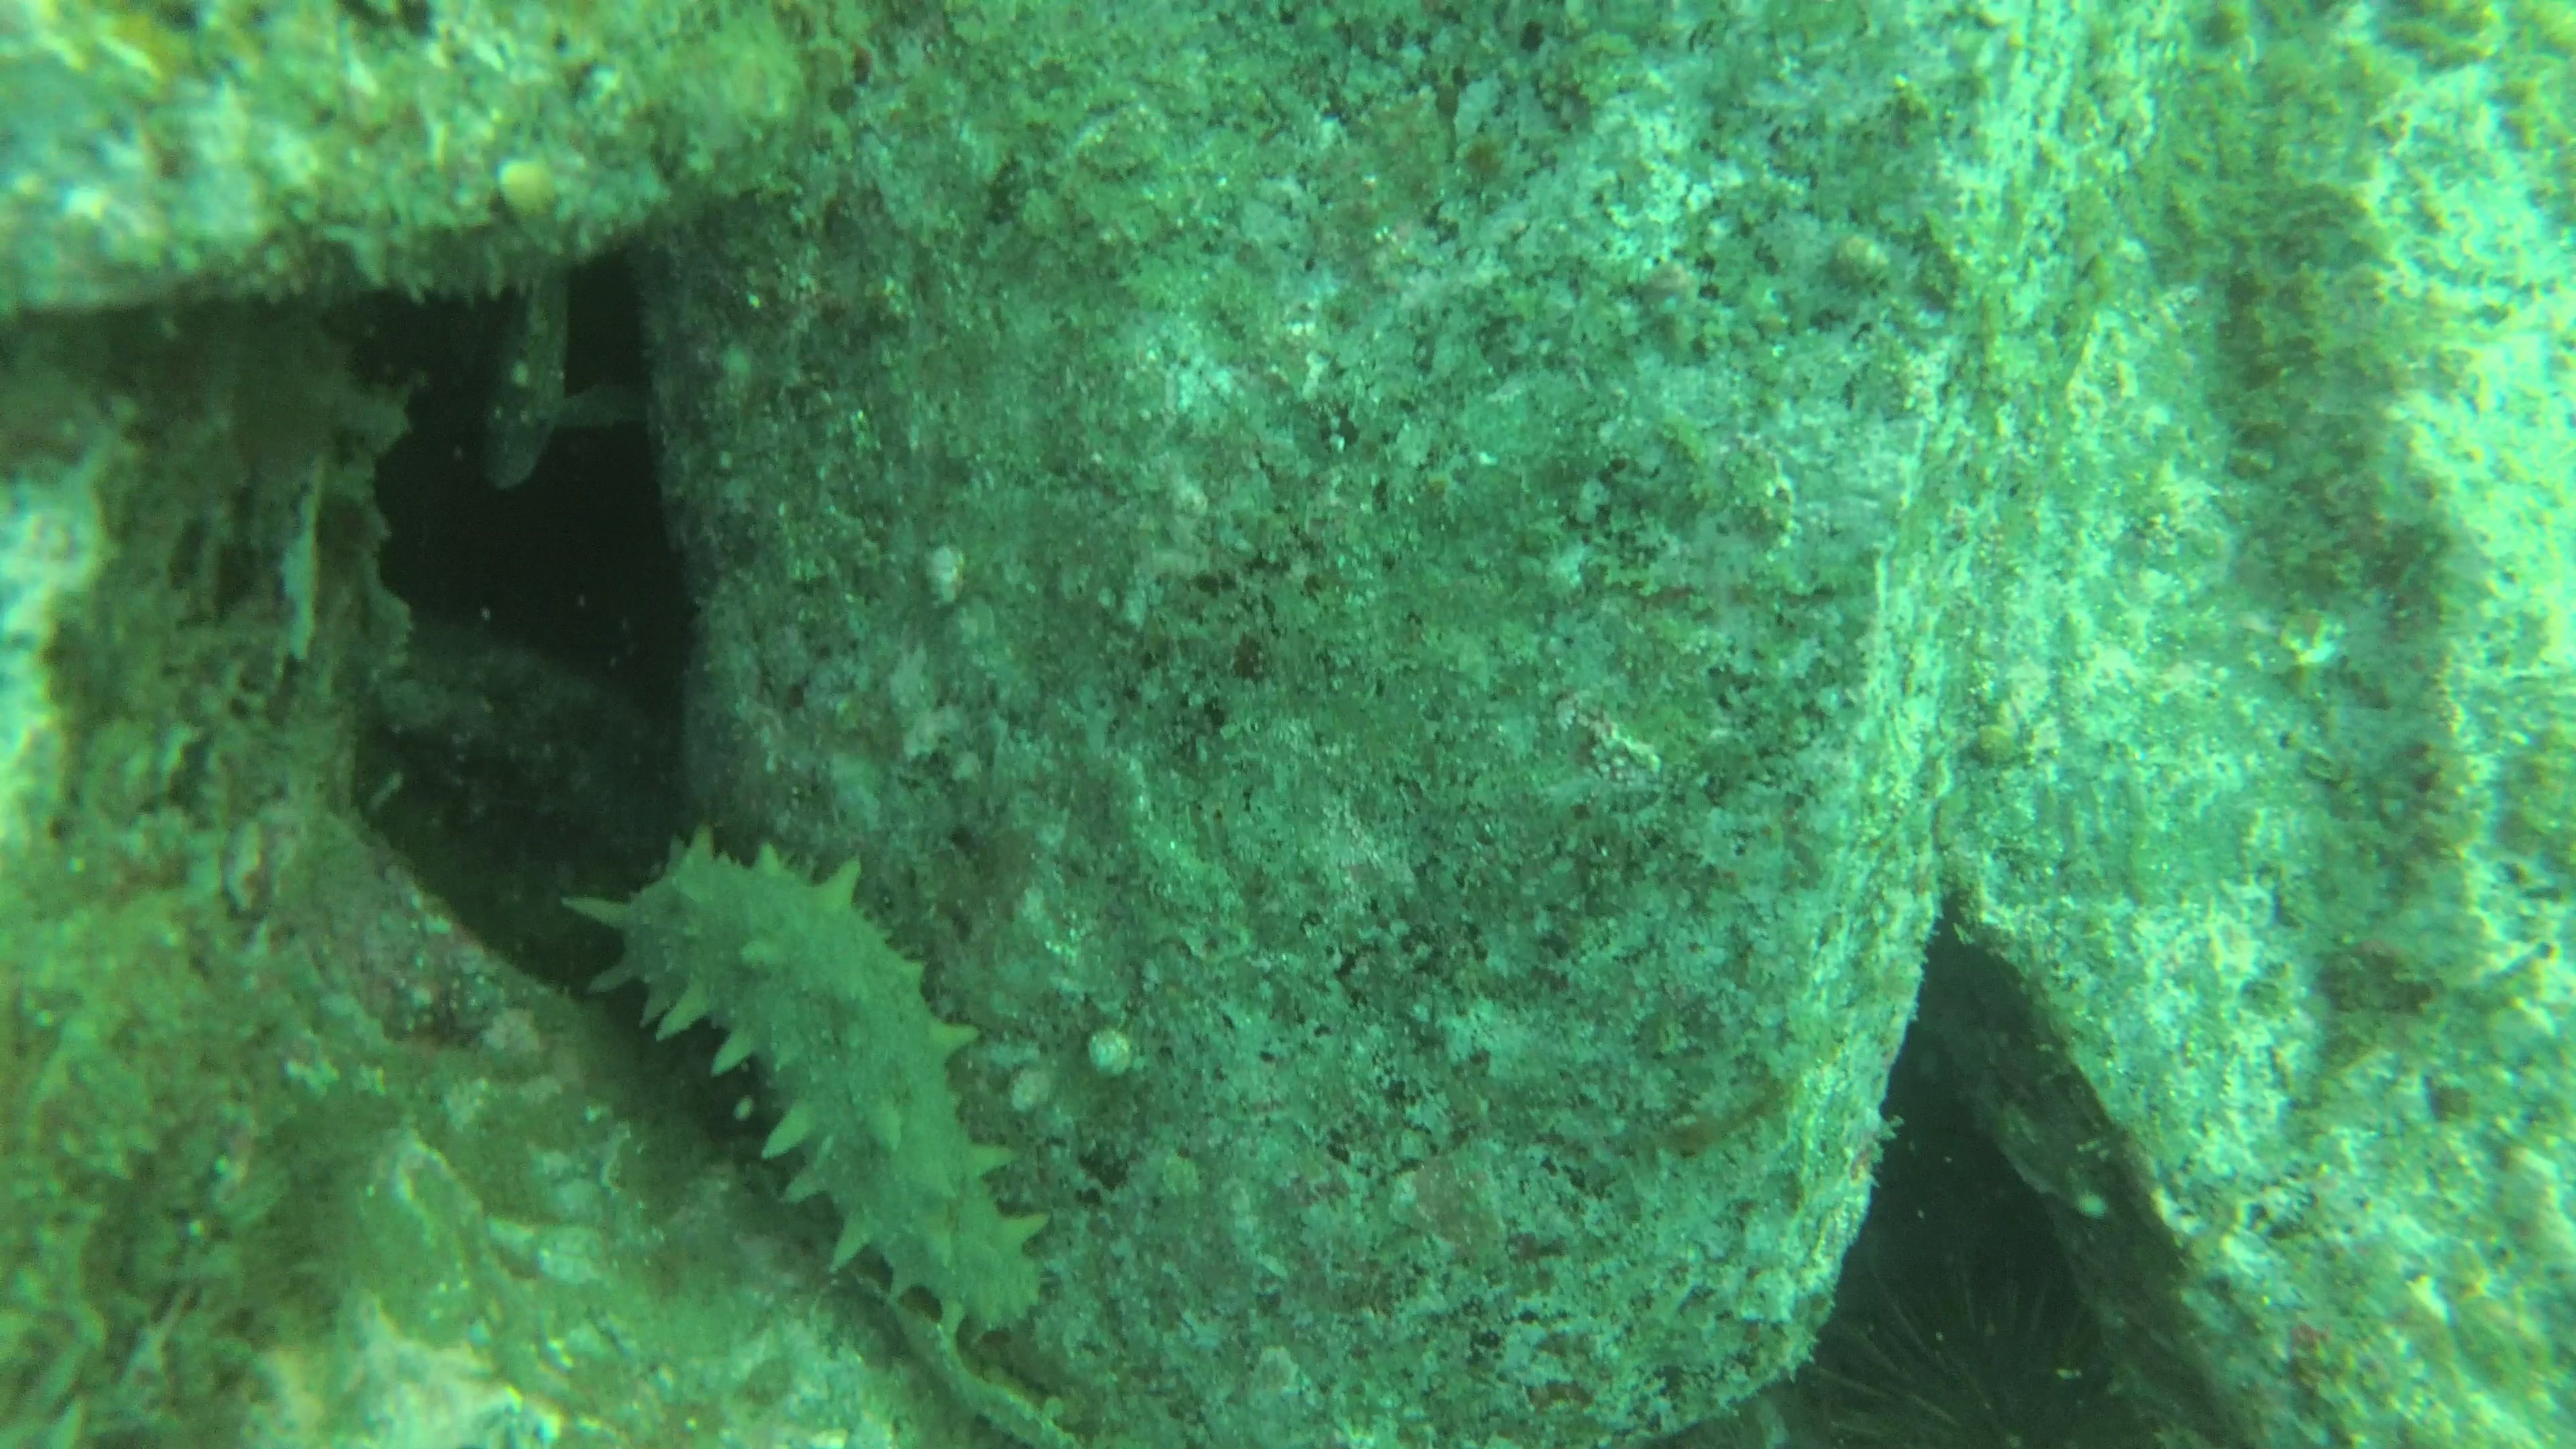echinus: (1790, 1246, 2162, 1440)
holothurian: (571, 830, 1062, 1348)
